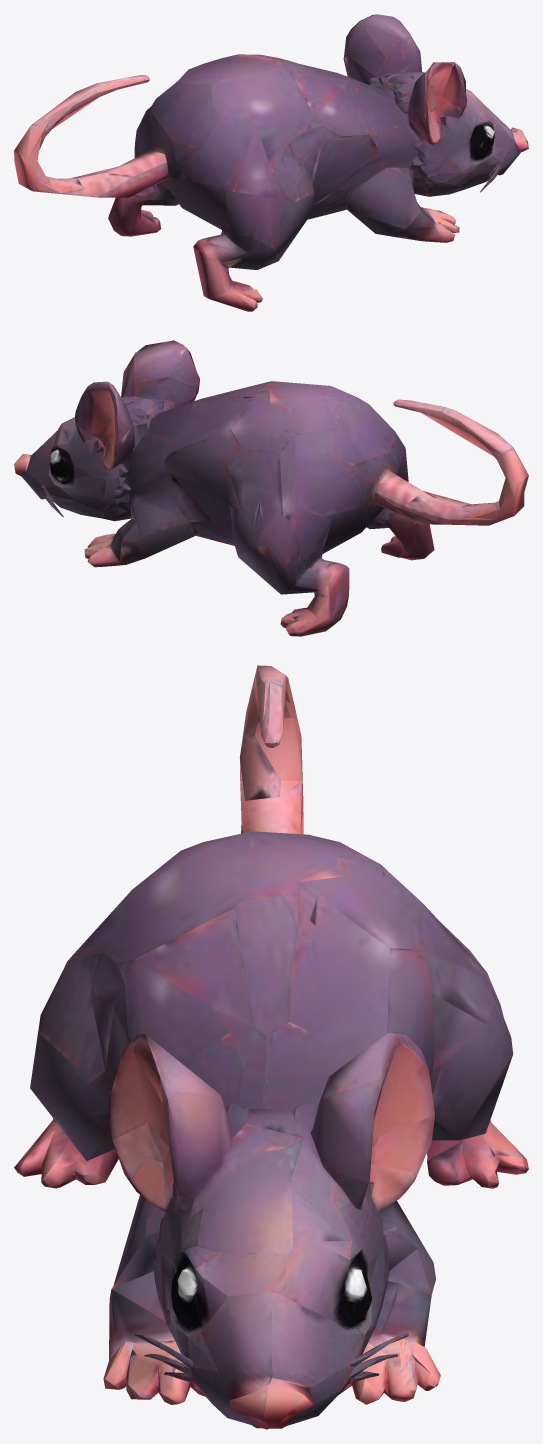
The model's file is rat-0-r90.glb.
3 views of the same model, one above another, from view 1: azimuth 30°, elevation 25°; view 2: azimuth 150°, elevation 25°; view 3: azimuth 270°, elevation 25° (orthographic). The views are drawn at different scales.
Size of the model in its own units: 1.55 by 0.6 by 0.6887.
1 material, 1 textured.
